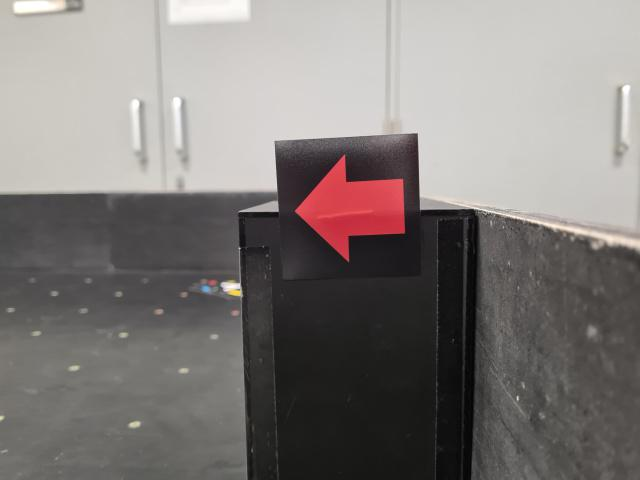left_arrow: (275, 133, 422, 278)
